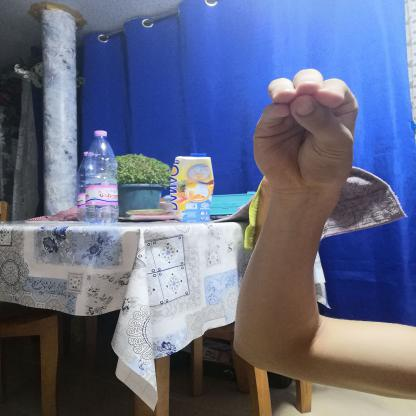HA: (235, 57, 373, 204)
